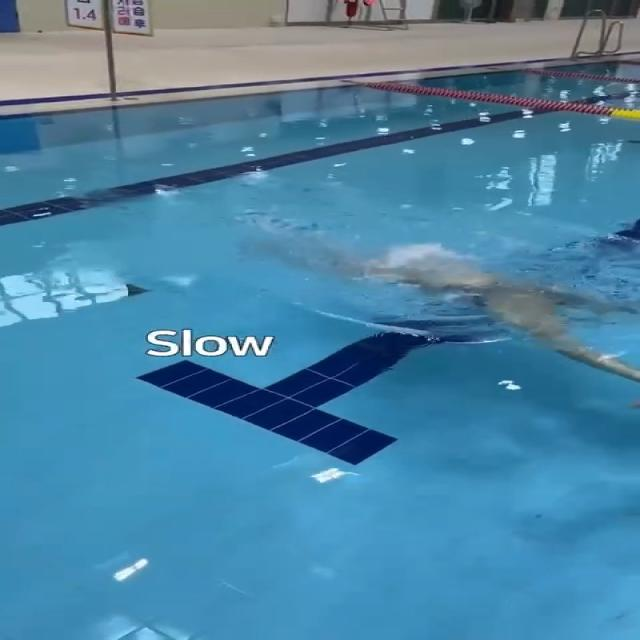Drowning: (284, 235, 640, 377)
